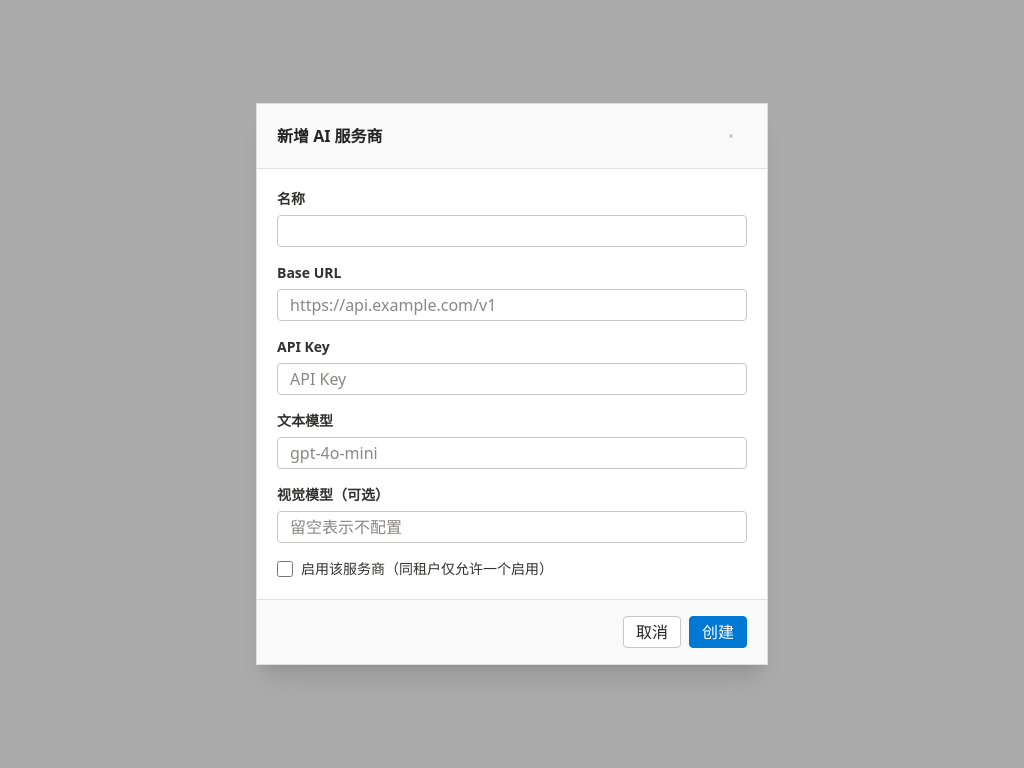
Test: AiProviderModal DTO behavior › shows API errors without reporting a saved provider
In the field labelled "名称": (512,231) x1=277 y1=215 x2=747 y2=247, type "Broken Provider"
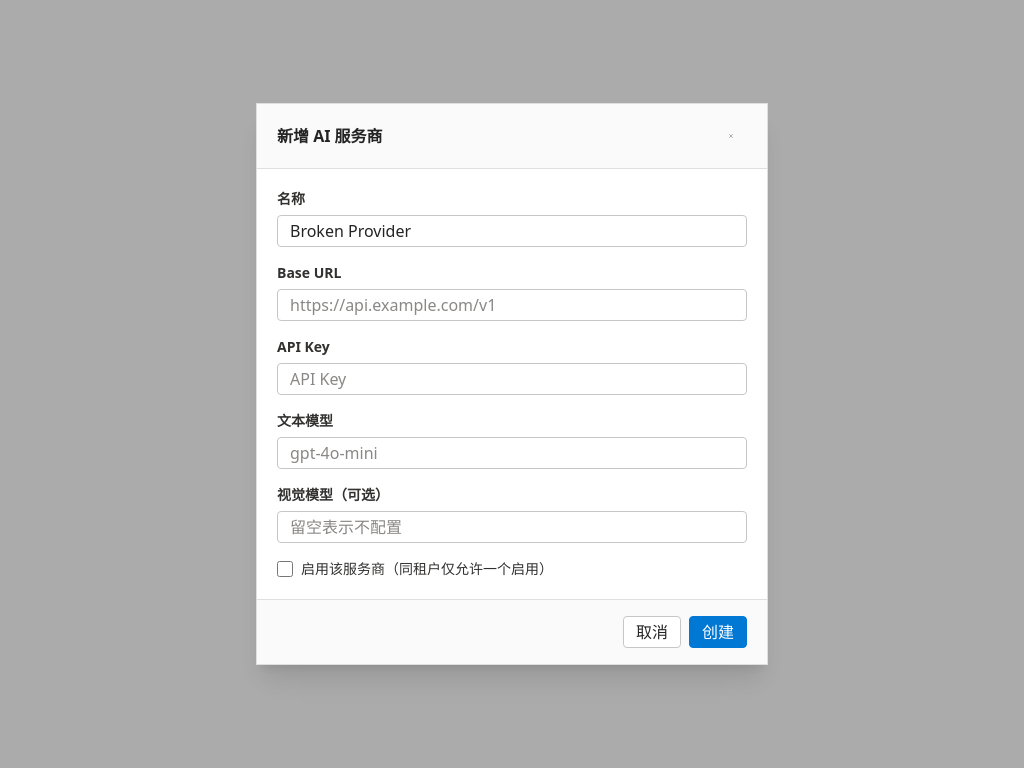
In the field labelled "Base URL": (512,305) x1=277 y1=289 x2=747 y2=321, type "https://broken.example.com/v1"
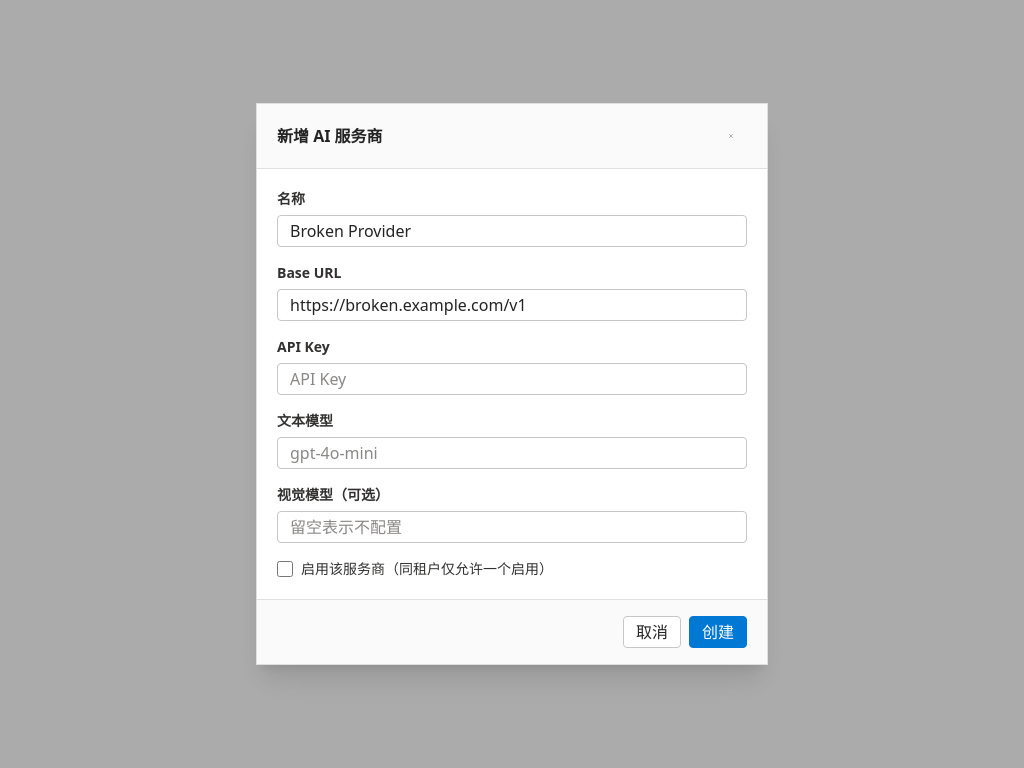
In the password field labelled "API Key": (512,379) x1=277 y1=363 x2=747 y2=395, type "secret-key"
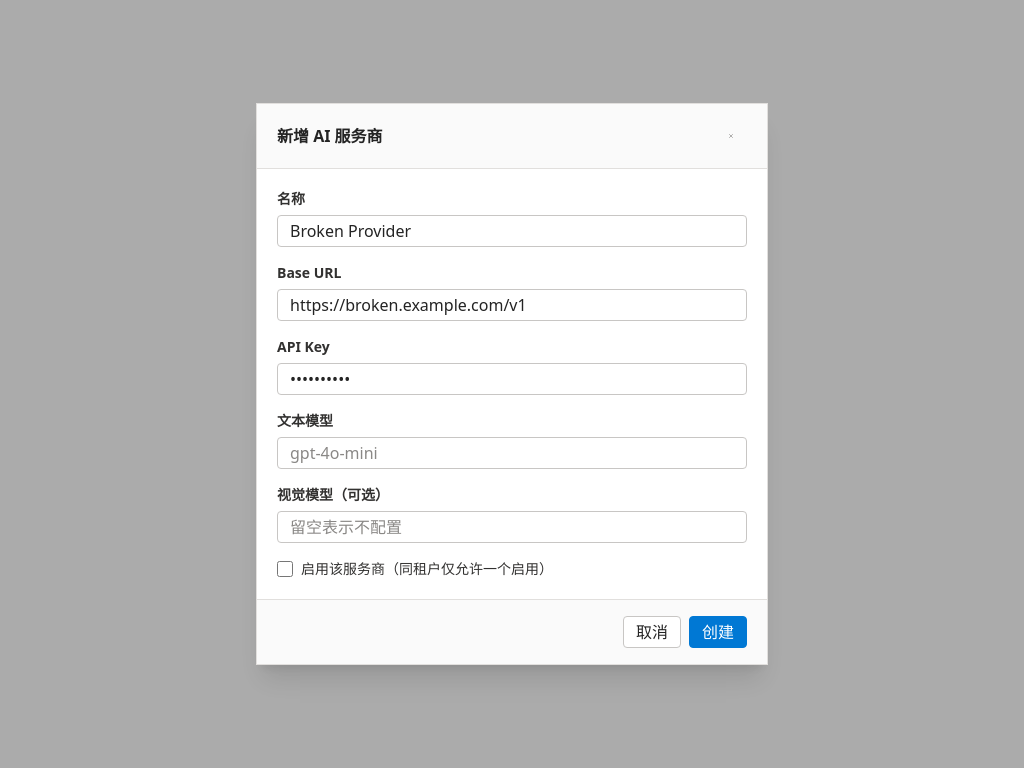
In the field labelled "文本模型": (512,453) x1=277 y1=437 x2=747 y2=469, type "broken-model"
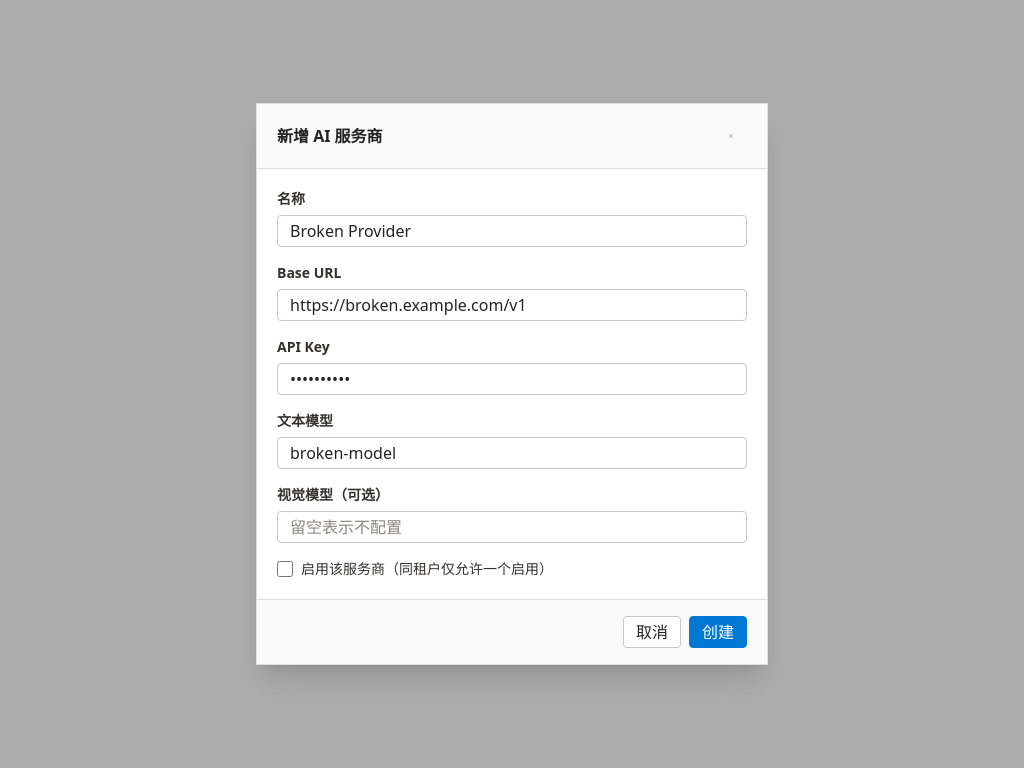
Click the button "创建": (718,632) x1=689 y1=616 x2=747 y2=648
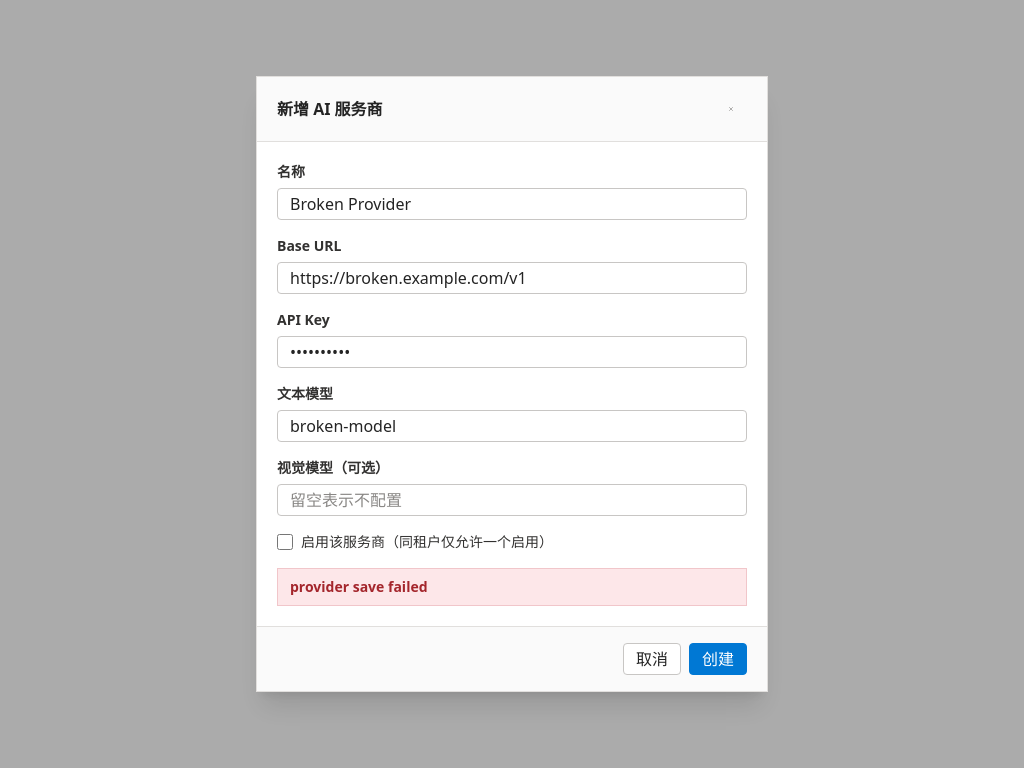
Now the text "provider save failed" is shown, box x1=277 y1=568 x2=747 y2=606
